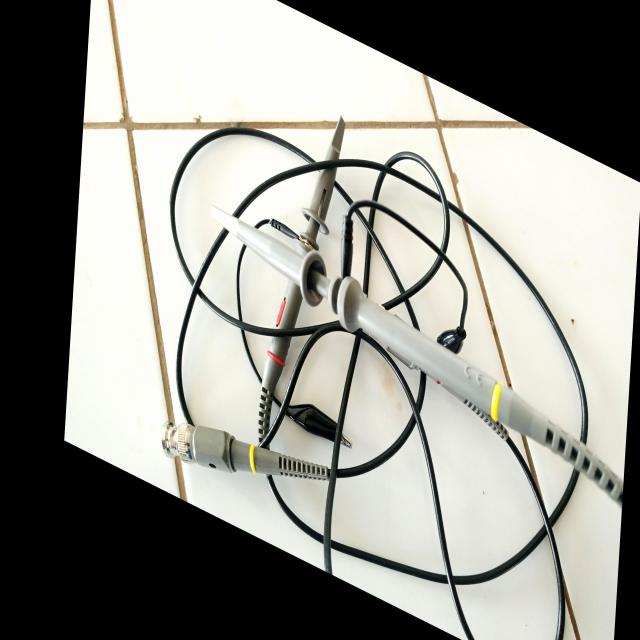CRO Probes: (143, 25, 566, 640)
